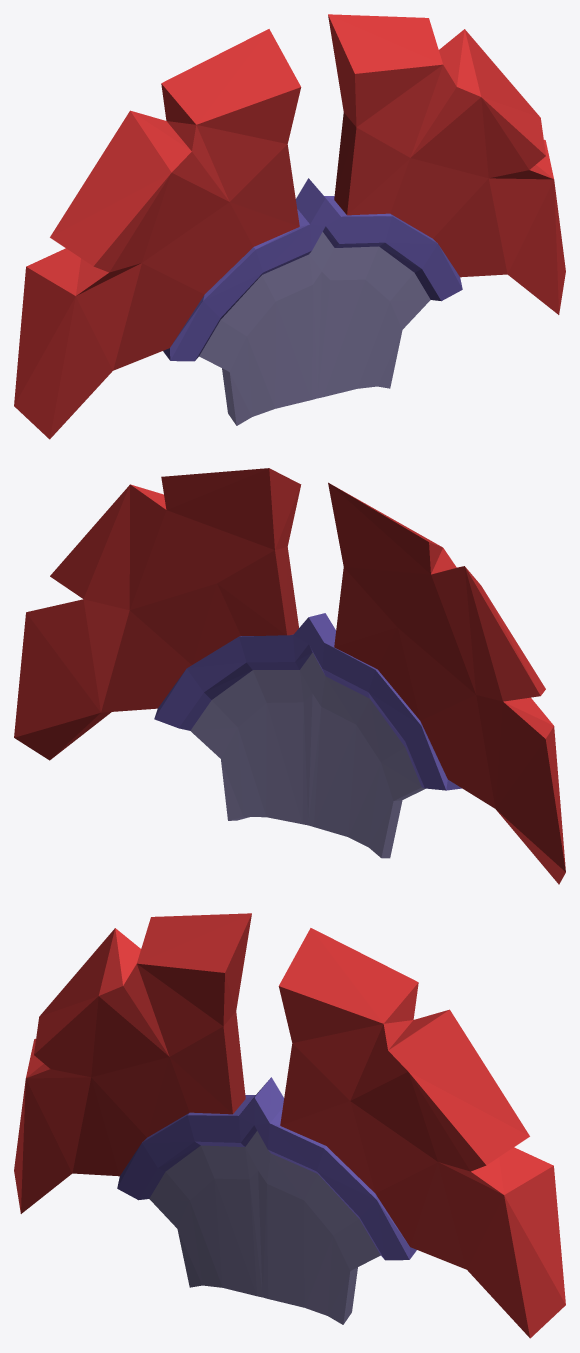
The model's file is helmet_crest_4.glb.
The picture shows the model from 3 angles, top to bottom: view 1: azimuth 30°, elevation 25°; view 2: azimuth 150°, elevation 25°; view 3: azimuth 330°, elevation 25°; orthographic projection.
Visible parts, largest first — view 1: helmet_crest_4; view 2: helmet_crest_4; view 3: helmet_crest_4.
Boxes of the visible parts, x1,y1,x2,y2 form: helmet_crest_4: (14,14,565,439); helmet_crest_4: (14,468,565,884); helmet_crest_4: (14,913,565,1338).
Bounding box in the file's own units: 1 × 0.6493 × 0.1325.
